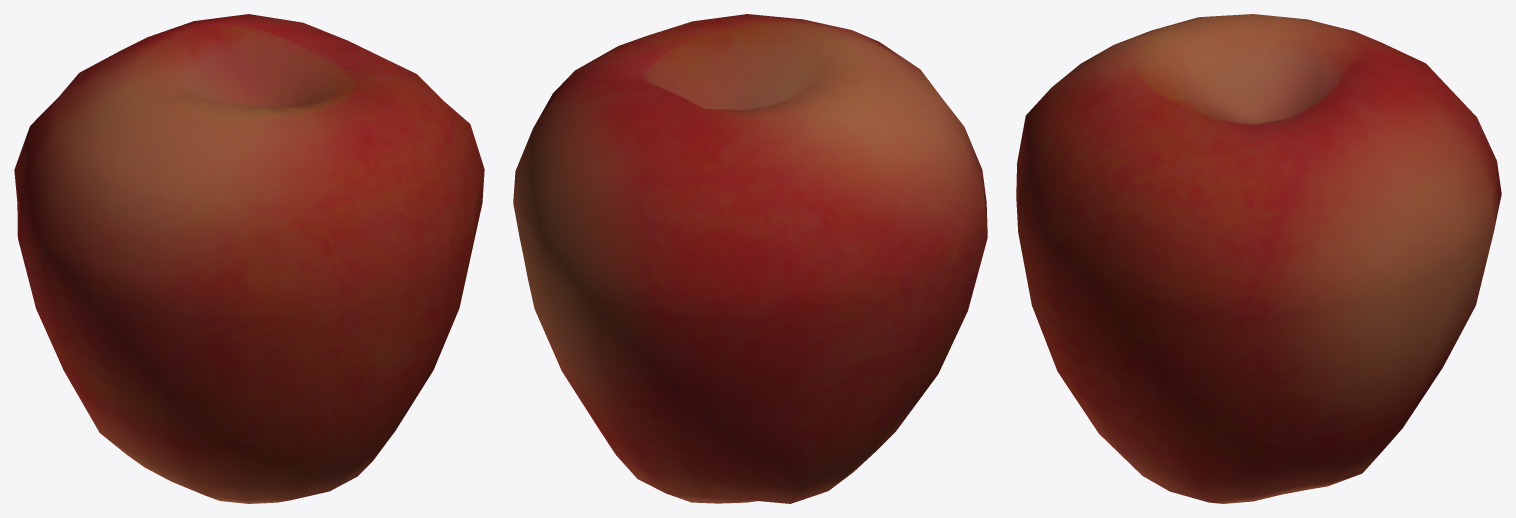
The model's file is SM_Apple_01.fbx.
3 views of the same model, side by side, from view 1: azimuth 30°, elevation 25°; view 2: azimuth 150°, elevation 25°; view 3: azimuth 270°, elevation 25° (orthographic). The views are drawn at different scales.
Visible parts, largest first — view 1: SM_Apple_01_LOD0; view 2: SM_Apple_01_LOD0; view 3: SM_Apple_01_LOD0.
Boxes of the visible parts, bbox=[...] form: SM_Apple_01_LOD0: bbox=[14, 14, 484, 503]; SM_Apple_01_LOD0: bbox=[513, 14, 987, 503]; SM_Apple_01_LOD0: bbox=[1016, 14, 1501, 503].
Size of the model in its own units: 52.93 by 52.68 by 49.5.
1 material, 1 textured.
